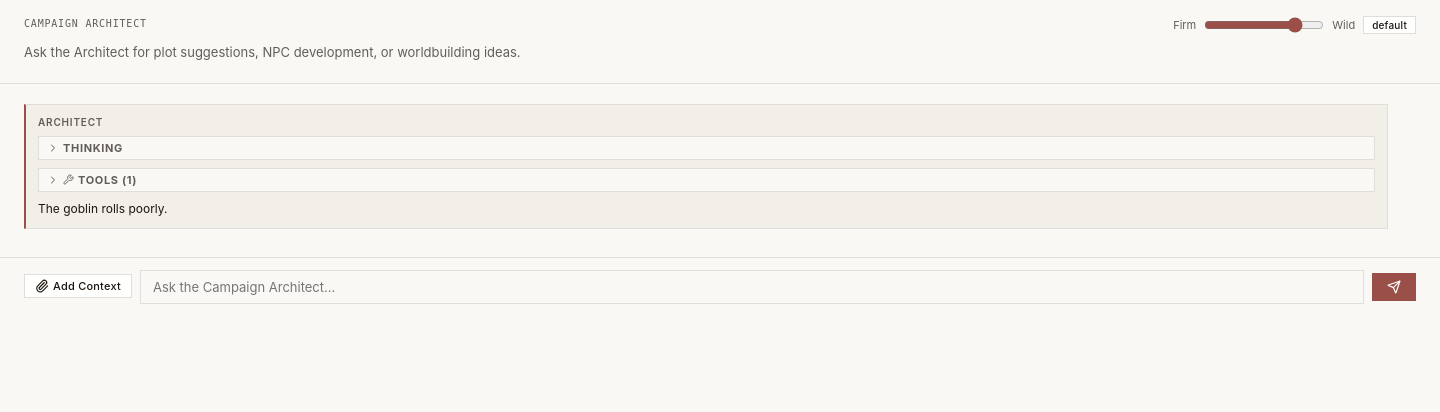
it: AiView › renders reasoning and tool blocks for a streaming assistant message
The image size is (1440, 412).
Step 1. Click the button "Thinking" → (93, 148), box x1=39 y1=136 x2=1374 y2=158
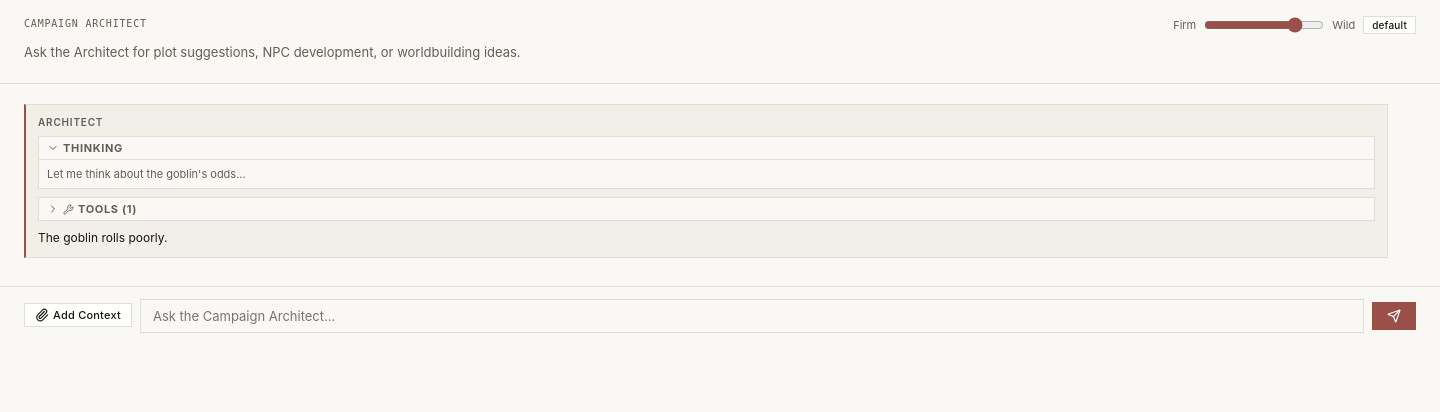
expect the text "Let me think about the goblin's odds..." is shown: met, box x1=39 y1=158 x2=1374 y2=188
Step 2. Click the button "Tools (1)" → (102, 209), box x1=39 y1=198 x2=1374 y2=220
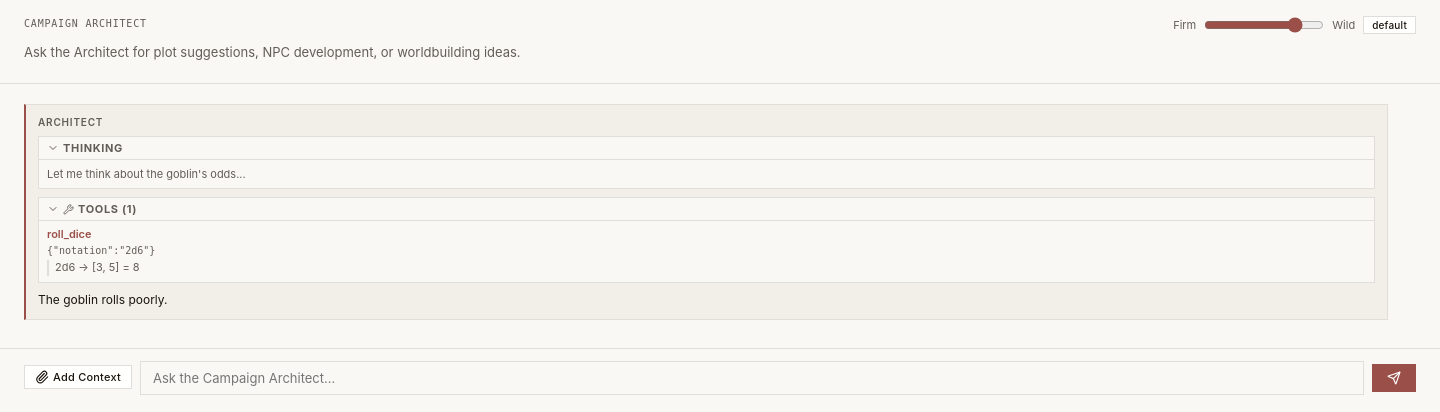
expect the text "roll_dice" is shown: met, box x1=47 y1=227 x2=92 y2=241
expect the text "{\"notation\":\"2d6\"}" is shown: met, box x1=47 y1=245 x2=155 y2=256
expect the text "2d6 → [3, 5] = 8" is shown: met, box x1=47 y1=260 x2=1366 y2=276
